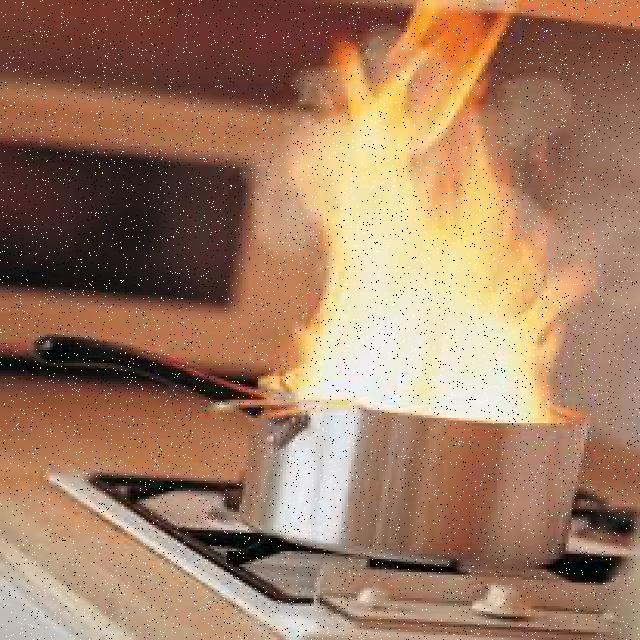fire: (290, 7, 576, 424)
